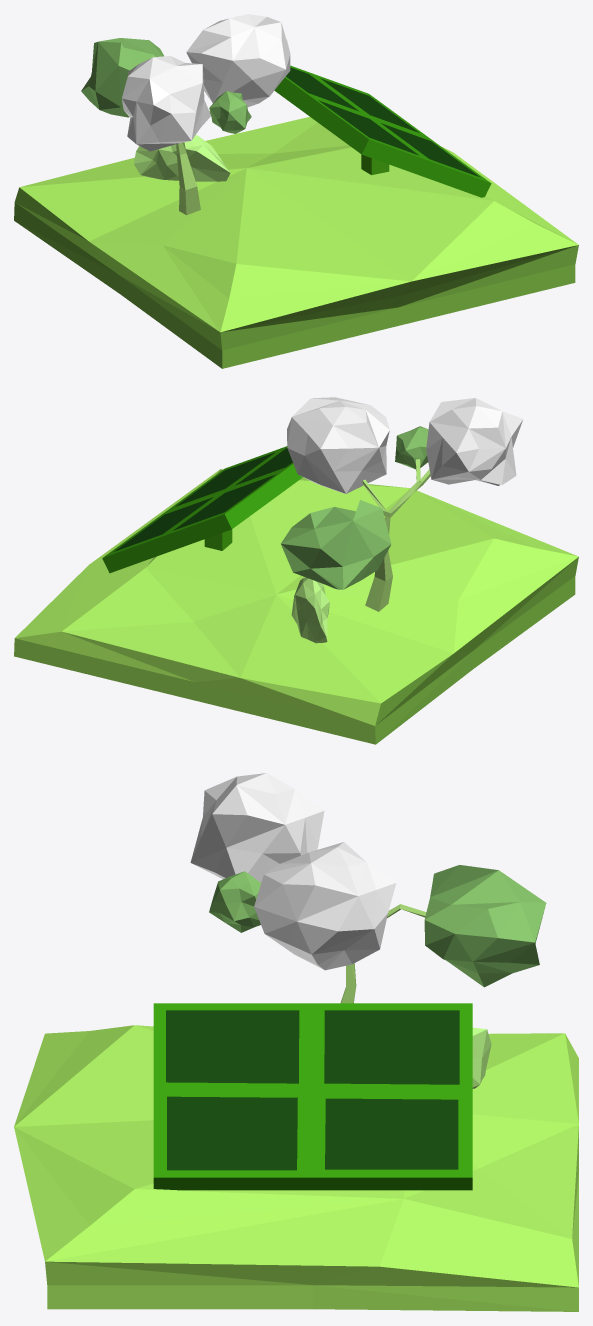
The model's file is building_solarfarm.fbx.
3 views of the same model, one above another, from view 1: azimuth 30°, elevation 25°; view 2: azimuth 150°, elevation 25°; view 3: azimuth 270°, elevation 25° (orthographic). The views are drawn at different scales.
Visible parts, largest first — view 1: grass; view 2: grass; view 3: grass.
Boxes of the visible parts, x1,y1,x2,y2 form: grass: (14, 14, 578, 368); grass: (14, 397, 578, 744); grass: (14, 773, 578, 1311).
Bounding box in the file's own units: 52.99 × 33.32 × 53.13.
